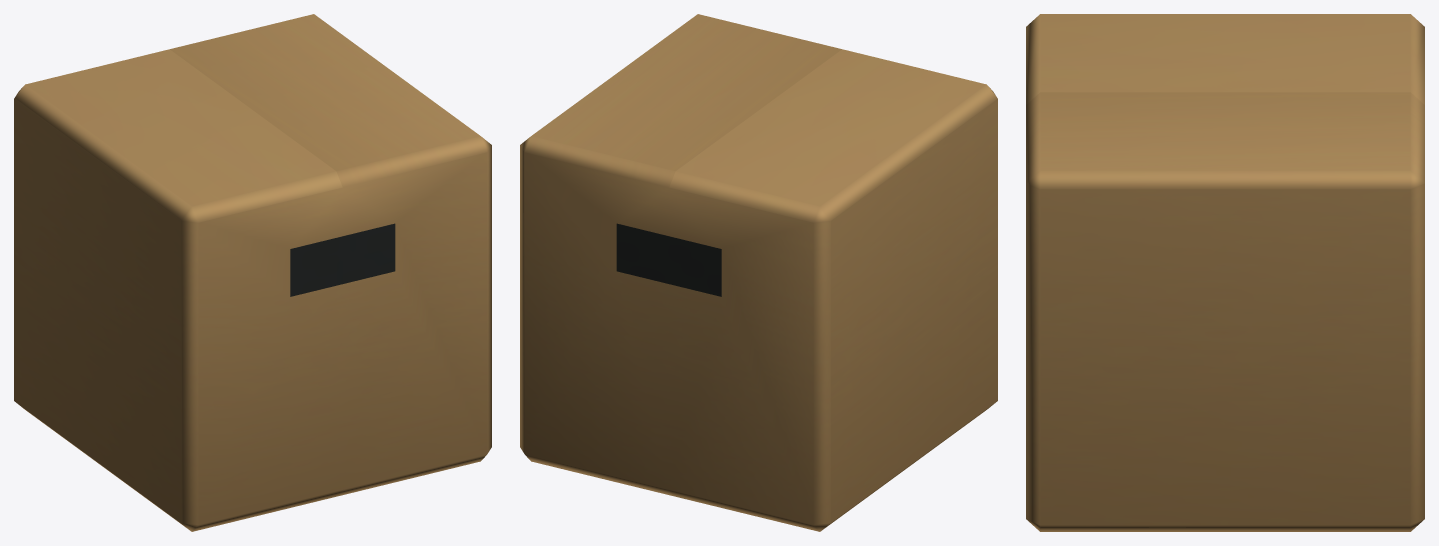
The model's file is box_cardboard_large_square_closed_handle.fbx.
The picture shows the model from 3 angles, left to right: view 1: azimuth 30°, elevation 25°; view 2: azimuth 150°, elevation 25°; view 3: azimuth 270°, elevation 25°; orthographic projection. The views are drawn at different scales.
Parts seen in each view (by area): view 1: box_cardboard_large_square_closed_handle; view 2: box_cardboard_large_square_closed_handle; view 3: box_cardboard_large_square_closed_handle.
Boxes of the visible parts, left/top/right/bottom form: box_cardboard_large_square_closed_handle: left=14, top=14, right=491, bottom=531; box_cardboard_large_square_closed_handle: left=520, top=14, right=997, bottom=531; box_cardboard_large_square_closed_handle: left=1026, top=14, right=1424, bottom=531.
Bounding box in the file's own units: 104 × 104 × 104.
